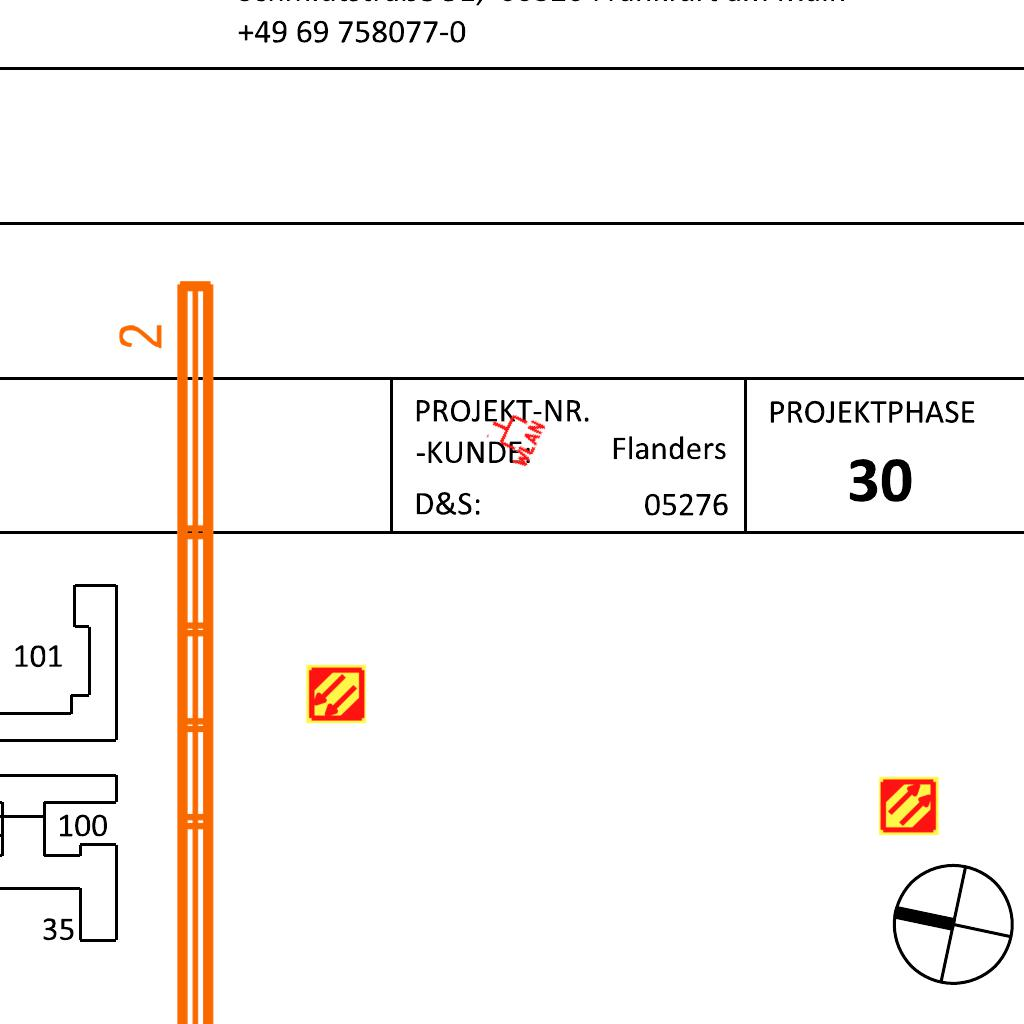ASR_Ansaugrauchmelder: (305, 663, 367, 725), (878, 775, 940, 837)
Ambulanz_Pendelleuchte_LED: (114, 272, 226, 1024)
WLAN: (478, 402, 548, 472)
